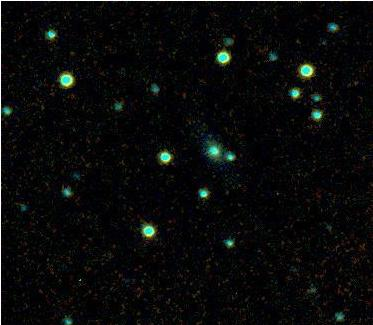star: (214, 178, 244, 208)
